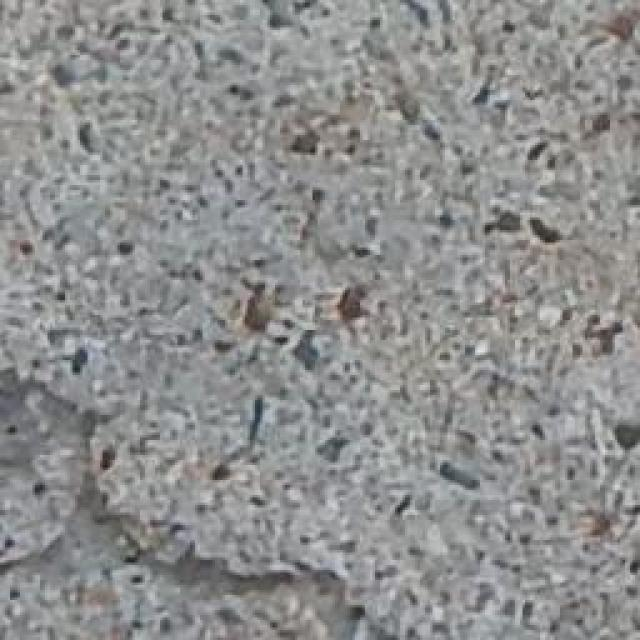concrete-crack: (3, 354, 386, 638)
